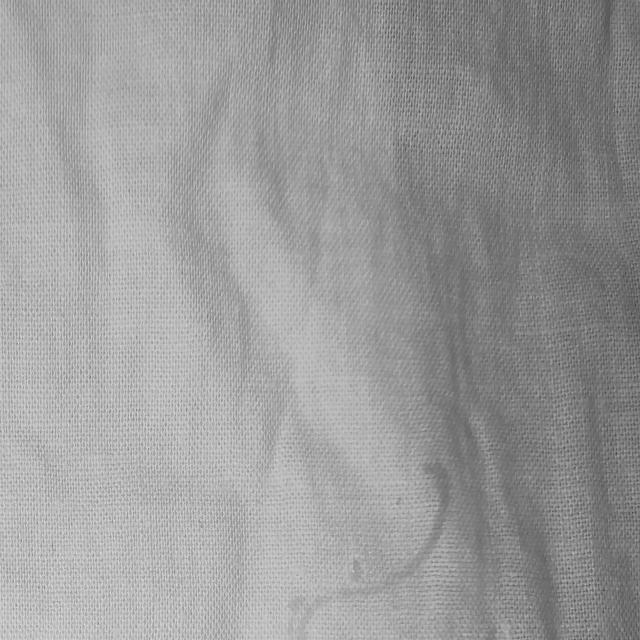Stain: (287, 463, 451, 636)
